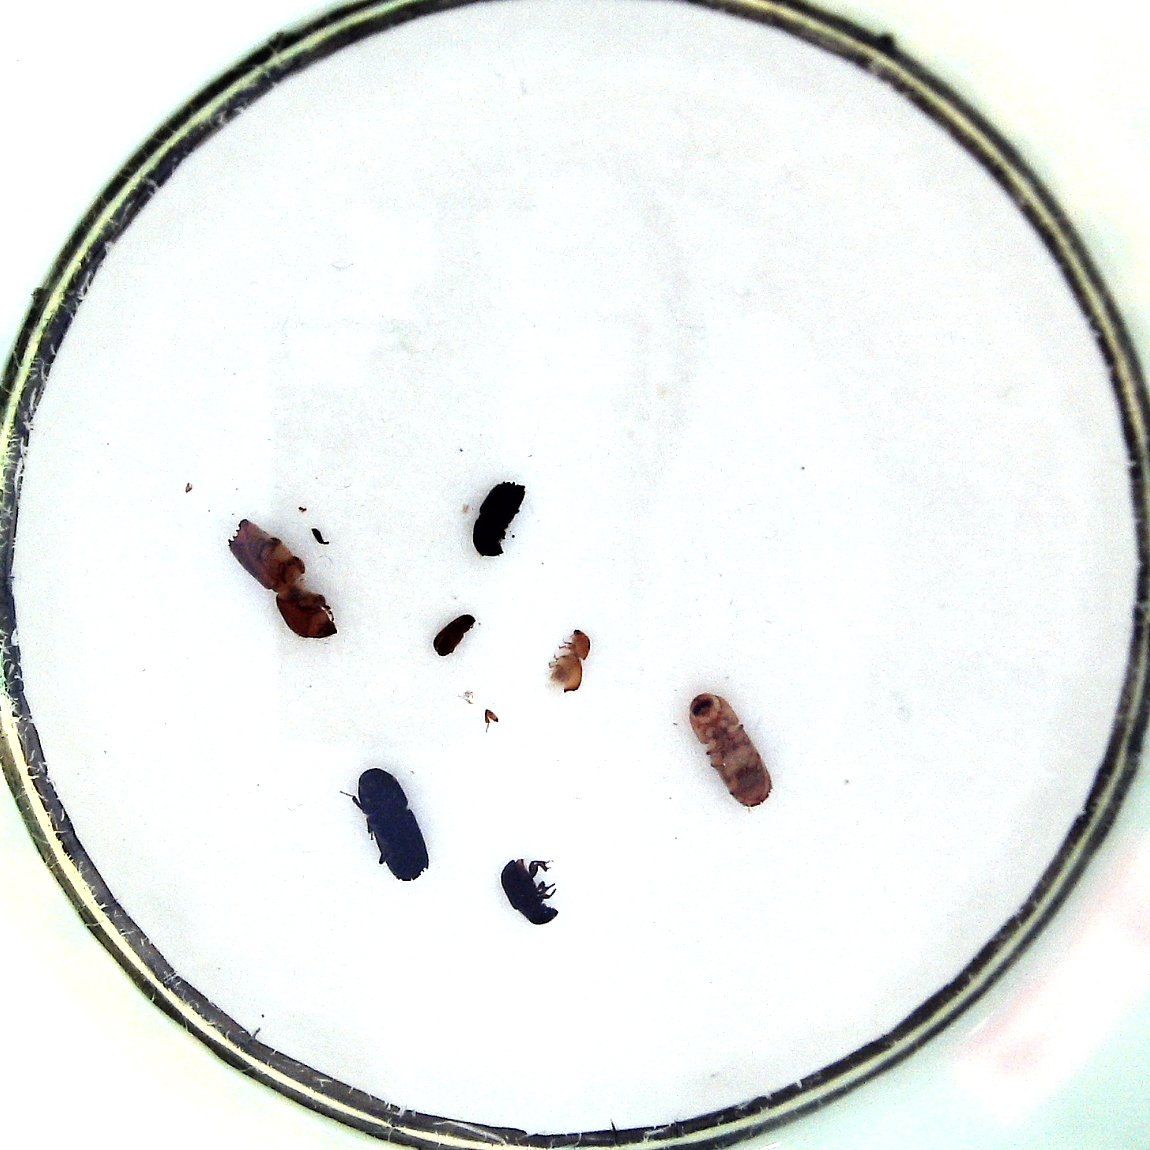Boerner: (225, 515, 339, 641), (687, 690, 774, 808), (352, 764, 430, 883)
Linnaeus: (472, 479, 531, 559)
acuminatus: (548, 628, 590, 693)
armandi: (497, 854, 559, 926)
coleoptera: (430, 613, 475, 659)
